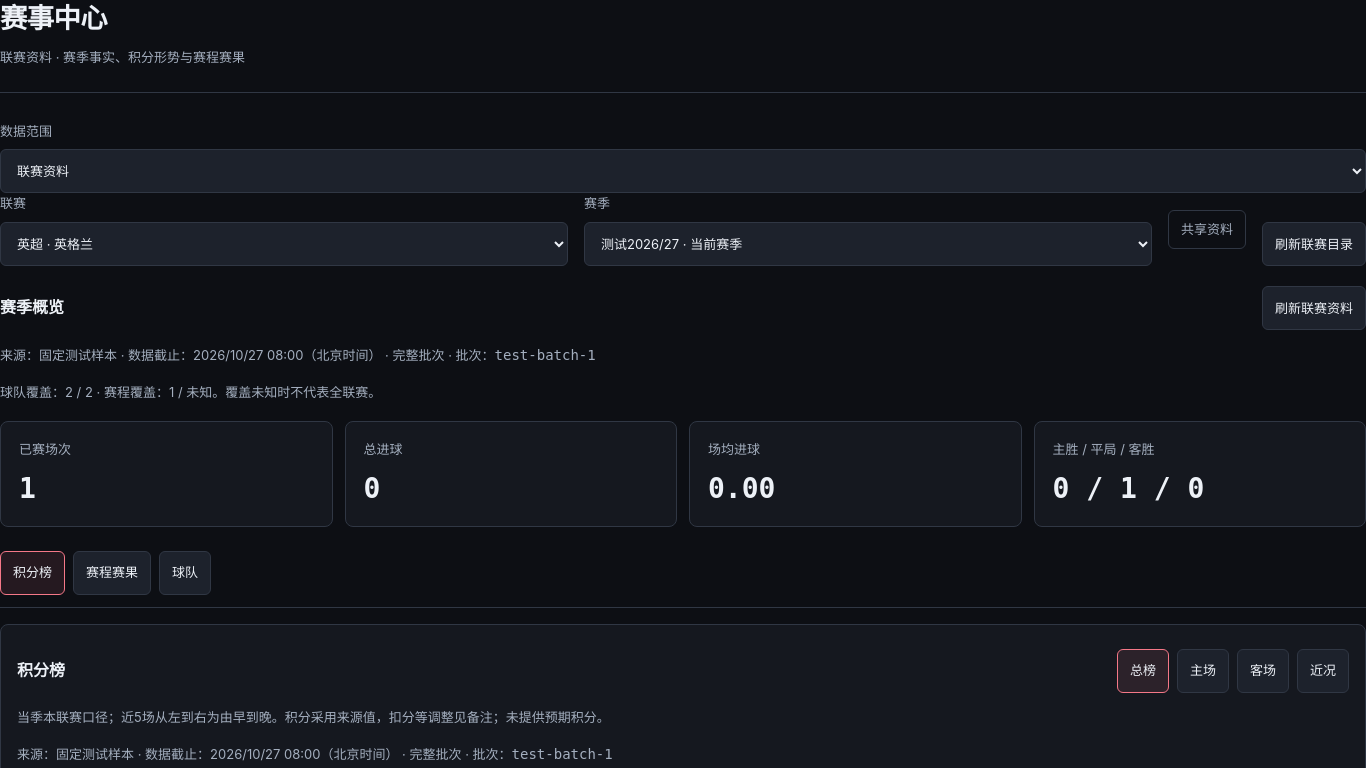
Test case: LeagueCenter integration (isolated fixed samples only) › shows real zeroes, negative penalty points, batch and coverage without deriving missing stats
Check: the element labelled "总进球" shows "0", box left=364, top=472, right=380, bottom=505
Check: the element labelled "场均进球" shows "0.00", box left=708, top=472, right=775, bottom=505
Click the button "主场" at (1203, 671), box left=1177, top=649, right=1229, bottom=693
(page scrolled)
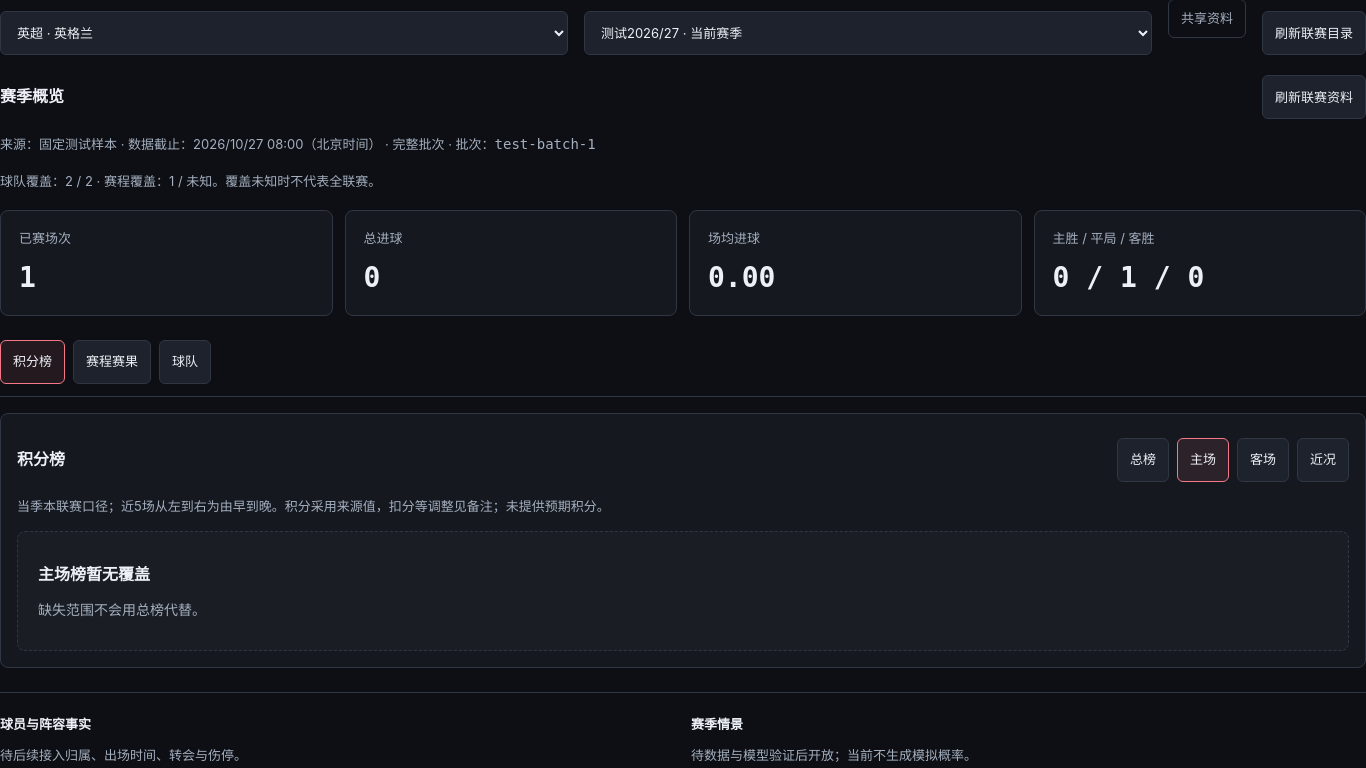
Check: the heading "主场榜暂无覆盖" is shown, box left=38, top=564, right=150, bottom=584
